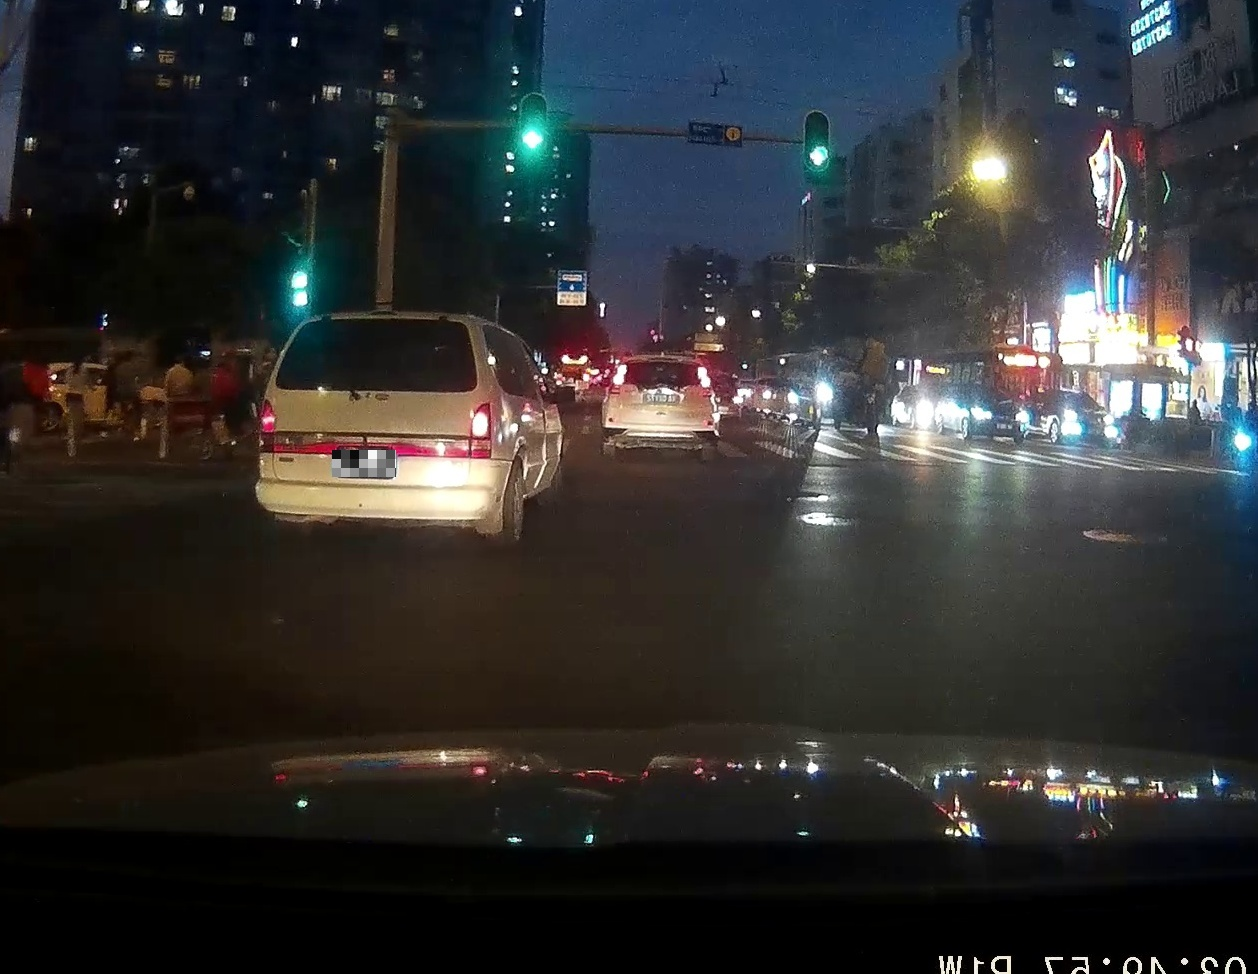L_light: (255, 309, 493, 544), (257, 398, 277, 454), (609, 363, 627, 395)
R_light: (469, 403, 492, 458), (697, 367, 713, 397)
T_light: (358, 318, 402, 325)
day-no: (648, 356, 678, 362)
night-no: (601, 355, 720, 462)
plate_1: (332, 450, 396, 477)
